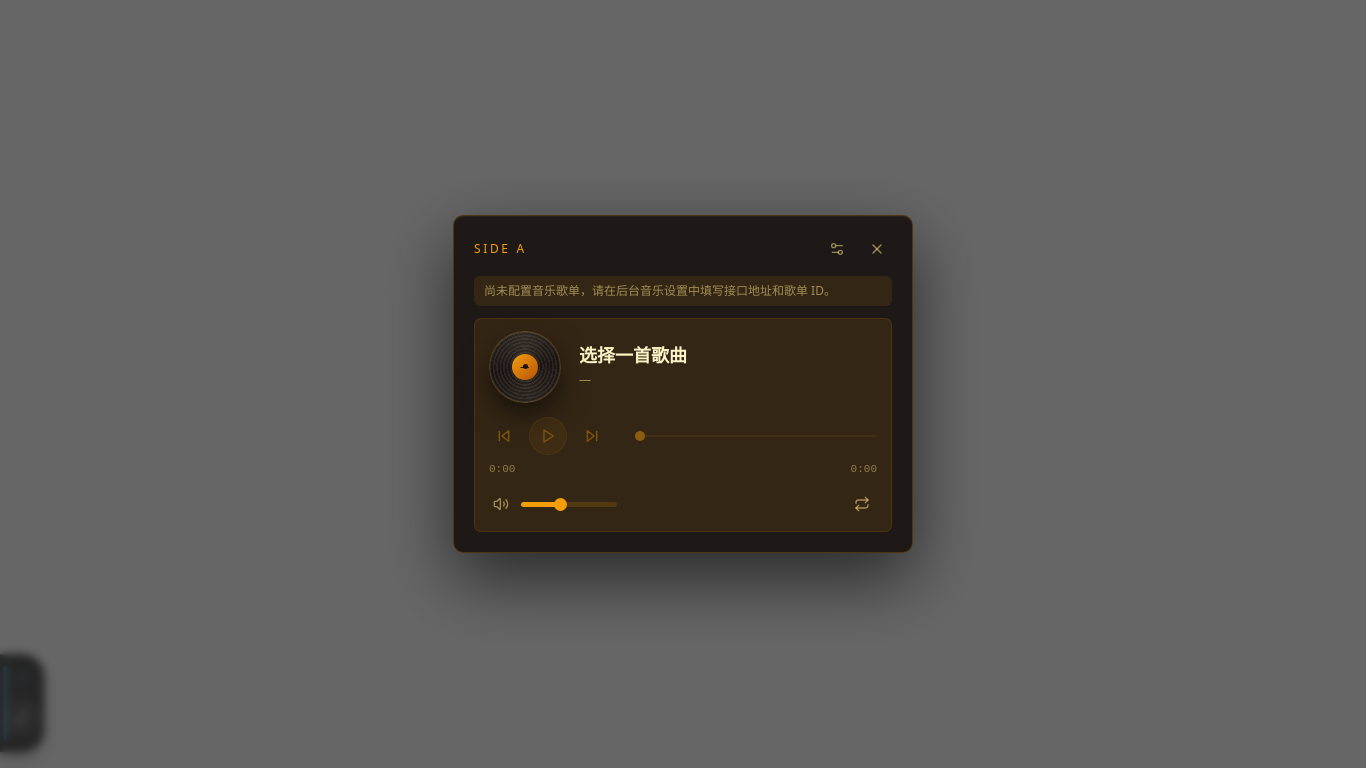
设置视图：与播放器互斥 › 头部标题随视图切换：进入显示「设置」，返回显示面板标签
This screenshot has width=1366, height=768.
Expected: the text "SIDE A" is shown, x1=474 y1=240 x2=527 y2=258
Click the button named "面板设置" at (837, 249), box x1=822 y1=234 x2=852 y2=264
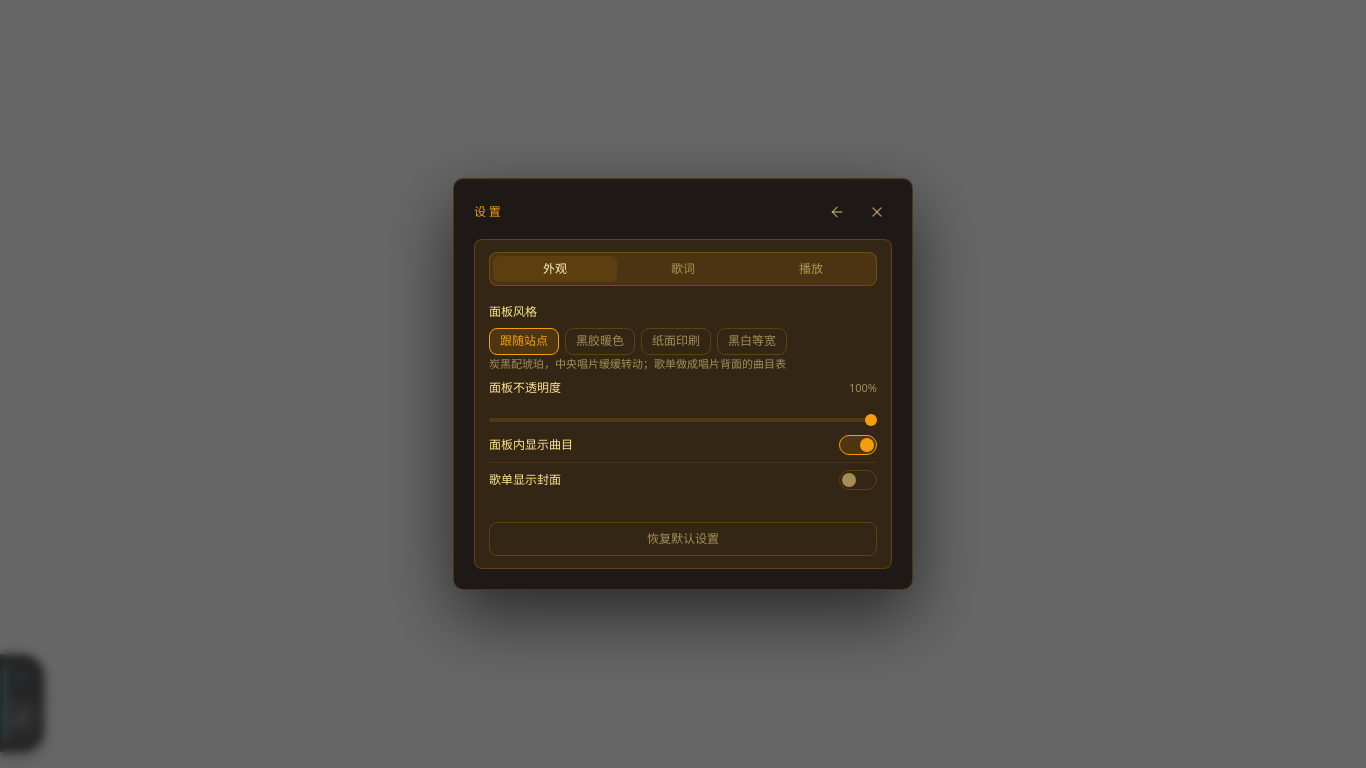
Now the text "设置" is shown, box x1=474 y1=203 x2=503 y2=221
Now the text "SIDE A" is gone
Click the button named "返回播放器" at (837, 212), box x1=822 y1=197 x2=852 y2=227
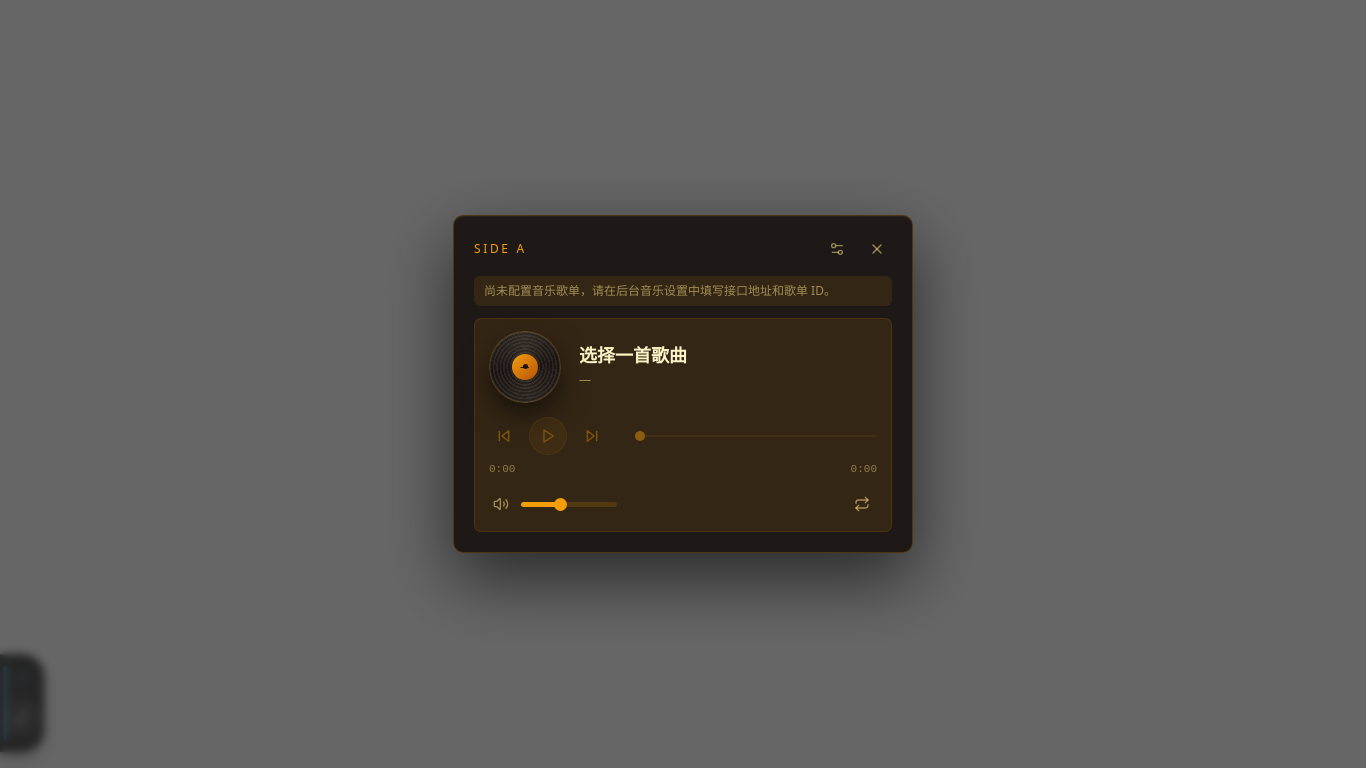
Now the text "SIDE A" is shown, box x1=474 y1=240 x2=527 y2=258
